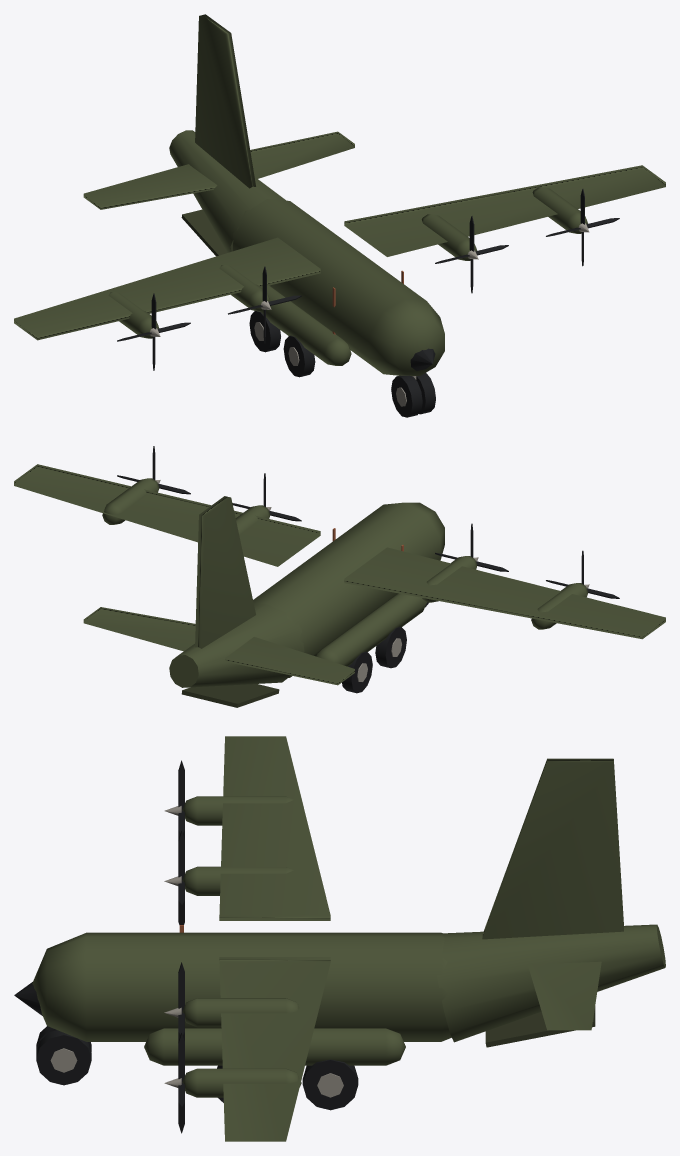
File: c-130-hercules-tactical.glb
3 renders of one model, top to bottom at view 1: azimuth 30°, elevation 25°; view 2: azimuth 150°, elevation 25°; view 3: azimuth 270°, elevation 25°, orthographic. The views are drawn at different scales.
Visible parts, largest first — view 1: Mesh_Fuselage, Mesh_MainWingRight, Mesh_MainWingLeft, Mesh_VerticalFin, Mesh_TailBoom, Mesh_TailWingRight, Mesh_SponsonR, Mesh_TailWingLeft, Mesh_Nacelle_0, Mesh_Nacelle_1, Mesh_WheelN1, Mesh_CargoRampMesh (+4 smaller); view 2: Mesh_Fuselage, Mesh_MainWingRight, Mesh_MainWingLeft, Mesh_VerticalFin, Mesh_TailBoom, Mesh_SponsonR, Mesh_TailWingRight, Mesh_TailWingLeft, Mesh_CargoRampMesh, Mesh_Nacelle_0, Mesh_WheelR1, Mesh_Nacelle_3 (+3 smaller); view 3: Mesh_Fuselage, Mesh_VerticalFin, Mesh_MainWingRight, Mesh_MainWingLeft, Mesh_TailBoom, Mesh_SponsonL, Mesh_TailWingLeft, Mesh_Nacelle_0, Mesh_Nacelle_1, Mesh_WheelN2, Mesh_WheelL2, Mesh_Nacelle_3 (+2 smaller).
Boxes of the visible parts, x1,y1,x2,y2 form: Mesh_Fuselage: (232,199,444,375); Mesh_MainWingRight: (14,237,320,340); Mesh_MainWingLeft: (344,165,665,256); Mesh_VerticalFin: (195,14,255,188); Mesh_TailBoom: (169,130,286,252); Mesh_TailWingRight: (83,164,217,209); Mesh_SponsonR: (254,285,351,365); Mesh_TailWingLeft: (250,131,354,178); Mesh_Nacelle_0: (532,187,587,233); Mesh_Nacelle_1: (421,214,477,260); Mesh_WheelN1: (391,375,422,417); Mesh_CargoRampMesh: (181,209,227,256); Mesh_Fuselage: (253,502,444,677); Mesh_MainWingRight: (344,547,665,639); Mesh_MainWingLeft: (14,464,320,566); Mesh_VerticalFin: (195,496,255,648); Mesh_TailBoom: (169,604,304,687); Mesh_SponsonR: (316,593,426,666); Mesh_TailWingRight: (225,637,354,685); Mesh_TailWingLeft: (83,607,195,651); Mesh_CargoRampMesh: (181,684,279,707); Mesh_Nacelle_0: (102,478,159,524); Mesh_WheelR1: (375,626,406,668); Mesh_Nacelle_3: (531,583,588,629); Mesh_Fuselage: (32,932,451,1041); Mesh_VerticalFin: (482,758,623,939); Mesh_MainWingRight: (219,736,330,920); Mesh_MainWingLeft: (219,957,330,1141); Mesh_TailBoom: (437,924,665,1042); Mesh_SponsonL: (144,1028,405,1065); Mesh_TailWingLeft: (527,961,601,1030); Mesh_Nacelle_0: (182,1068,301,1097); Mesh_Nacelle_1: (182,998,299,1027); Mesh_WheelN2: (36,1030,91,1085); Mesh_WheelL2: (302,1059,358,1110); Mesh_Nacelle_3: (182,796,293,825).
Size of the model in its own units: 8.5 by 3.15 by 5.87.
4 materials, 4 textured.
